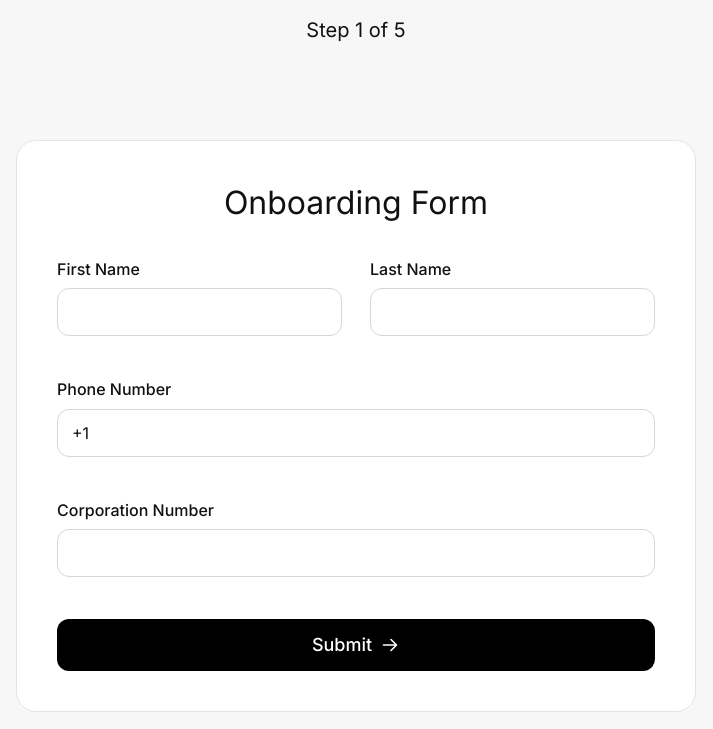
Test: onboarding form › shows a 400 message under the matching field
In the field labelled "First Name": (200, 312) [57,288,342,336], type "Hello"
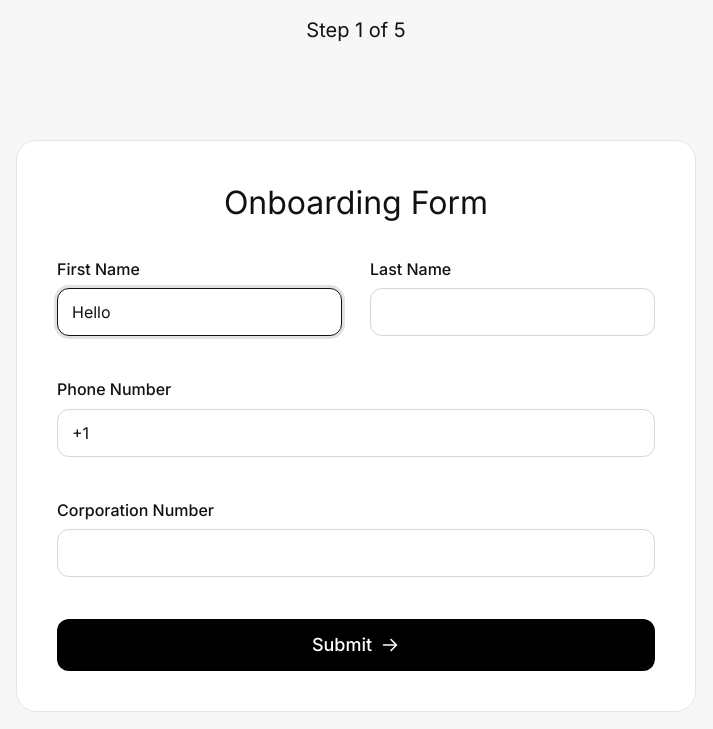
In the field labelled "Last Name": (512, 312) [370,288,655,336], type "World"
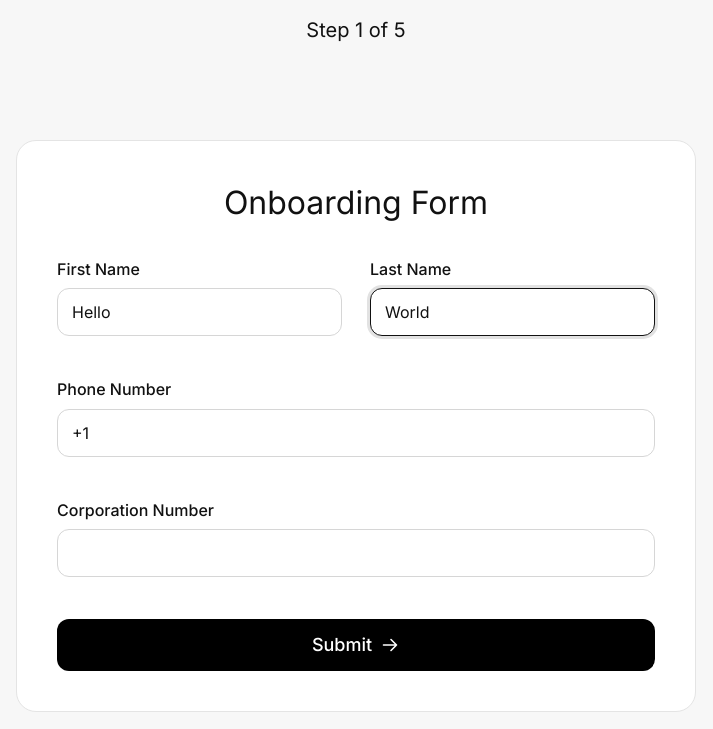
In the field labelled "Phone Number": (356, 433) [57,409,655,457], type "3062776103"
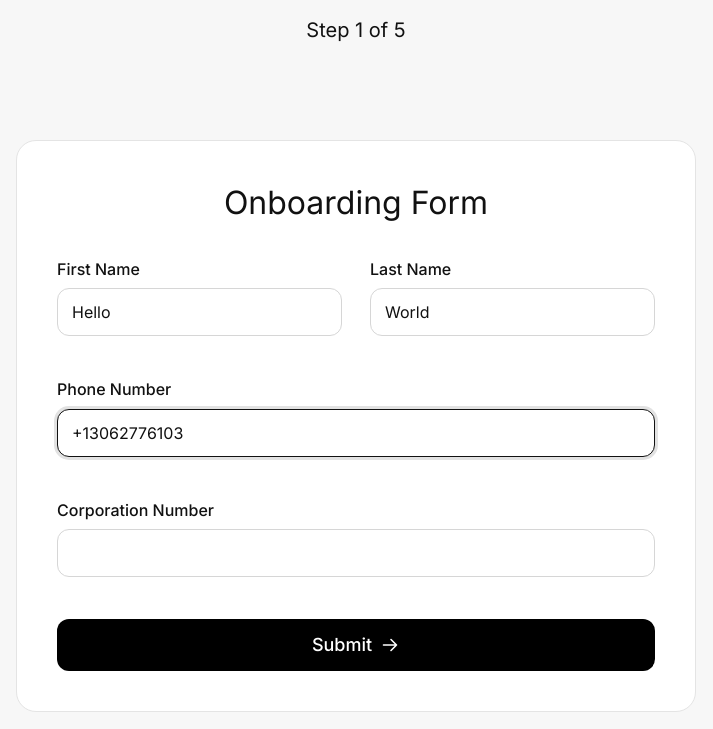
In the field labelled "Corporation Number": (356, 553) [57,529,655,577], type "826417395"
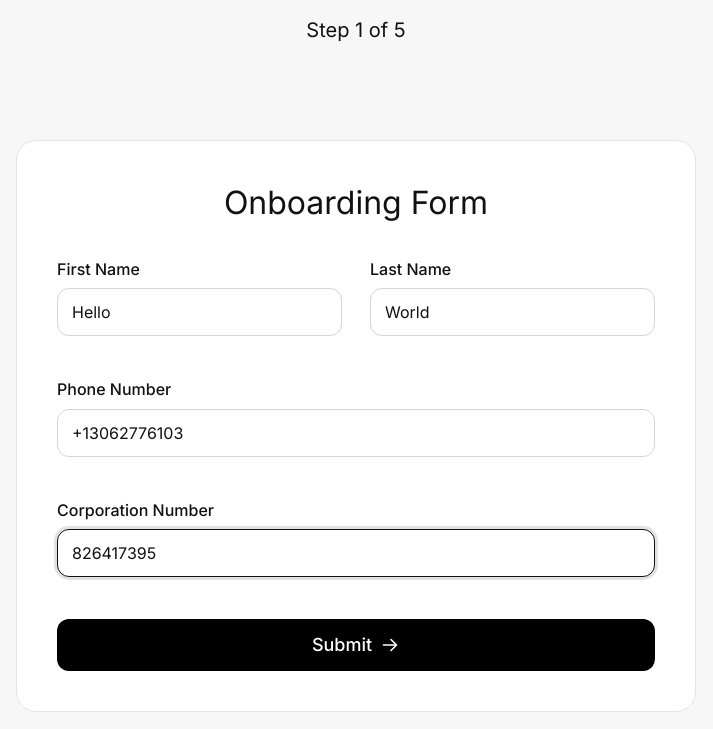
Click the button "Submit": click(356, 645) [57,619,655,671]
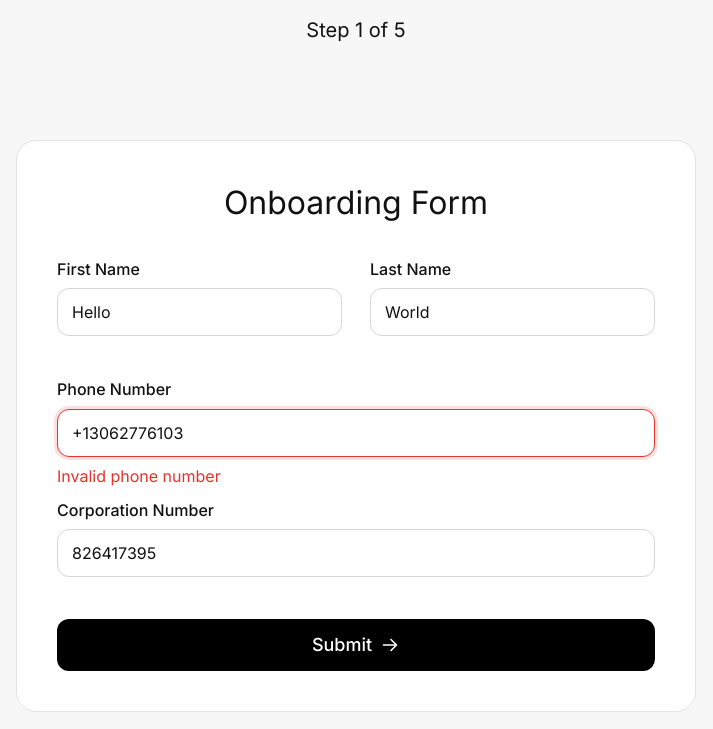
Check: the text "Step 1 of 5" is shown, box [306,16,406,44]
Check: the text "Invalid phone number" is shown, box [57,466,221,486]
